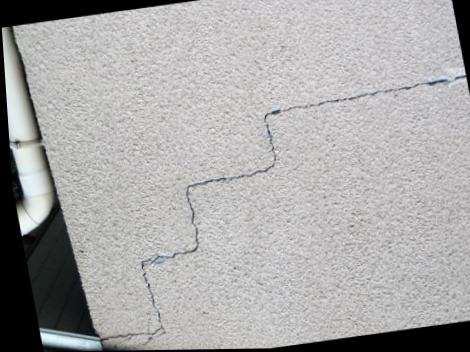crack: (95, 76, 465, 346)
